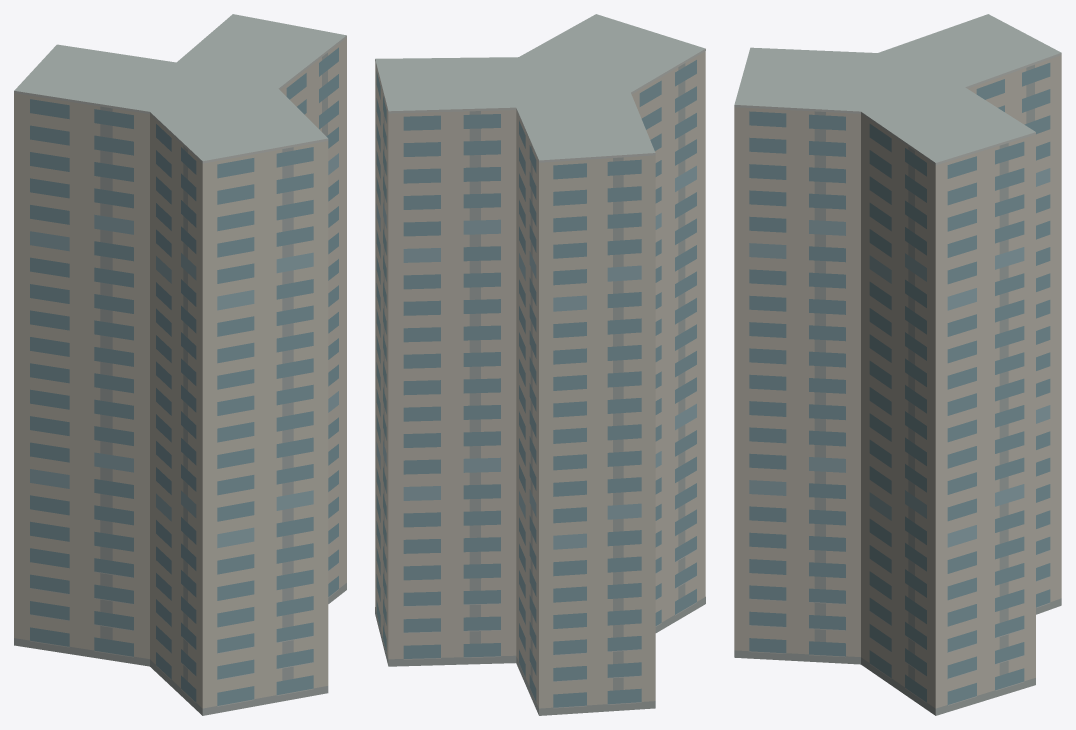
File: residential-304d6990-af5b-43c9-a49a-386701974edc.glb
The picture shows the model from 3 angles, left to right: view 1: azimuth 30°, elevation 25°; view 2: azimuth 150°, elevation 25°; view 3: azimuth 270°, elevation 25°; orthographic projection.
Parts seen in each view (by area): view 1: residential-304d6990-af5b-43c9-a49a-386701974edc.tmp; view 2: residential-304d6990-af5b-43c9-a49a-386701974edc.tmp; view 3: residential-304d6990-af5b-43c9-a49a-386701974edc.tmp.
Part boxes in pixels (x1,y1,x2,y2): residential-304d6990-af5b-43c9-a49a-386701974edc.tmp: (14, 14, 346, 715); residential-304d6990-af5b-43c9-a49a-386701974edc.tmp: (375, 14, 705, 715); residential-304d6990-af5b-43c9-a49a-386701974edc.tmp: (734, 14, 1061, 715).
Size of the model in its own units: 32.95 by 57 by 30.58.
